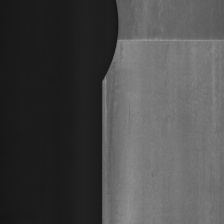crescent_gap: (89, 0, 122, 92), (113, 33, 224, 49)
